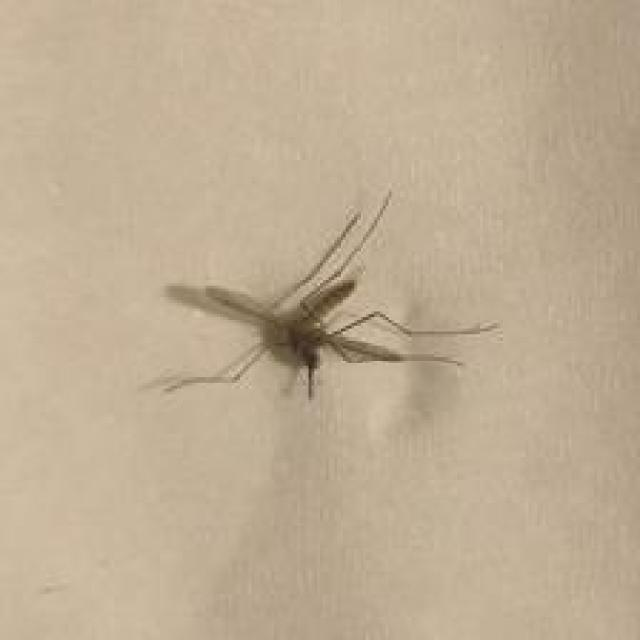Culex: (150, 187, 501, 404)
